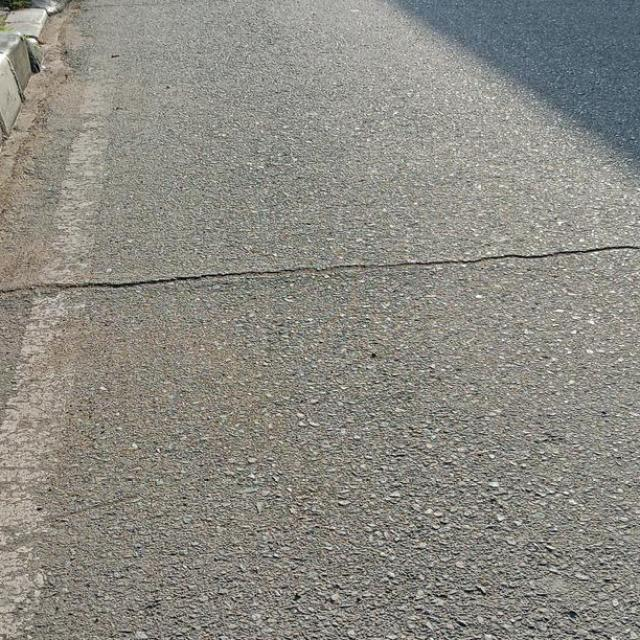Melintang: (0, 234, 640, 308)
